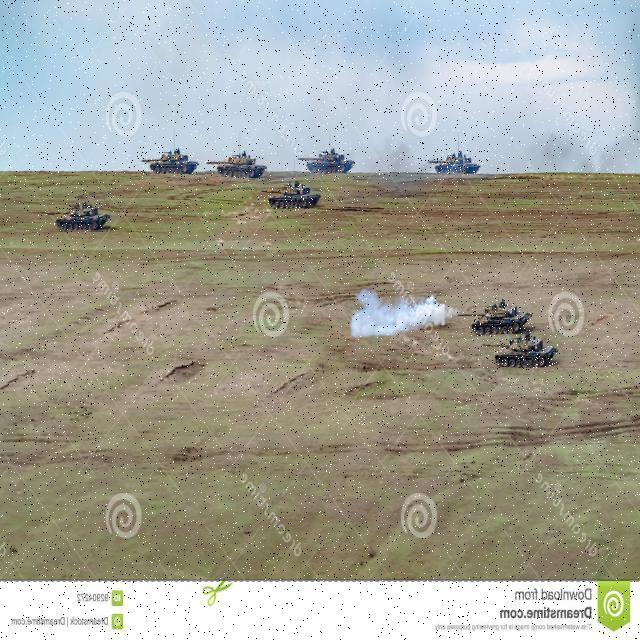MIL_MBT: (471, 300, 532, 336), (494, 339, 558, 368), (267, 178, 322, 210), (205, 151, 267, 179), (141, 146, 199, 175), (55, 203, 110, 231), (299, 149, 355, 174), (428, 150, 480, 174)
